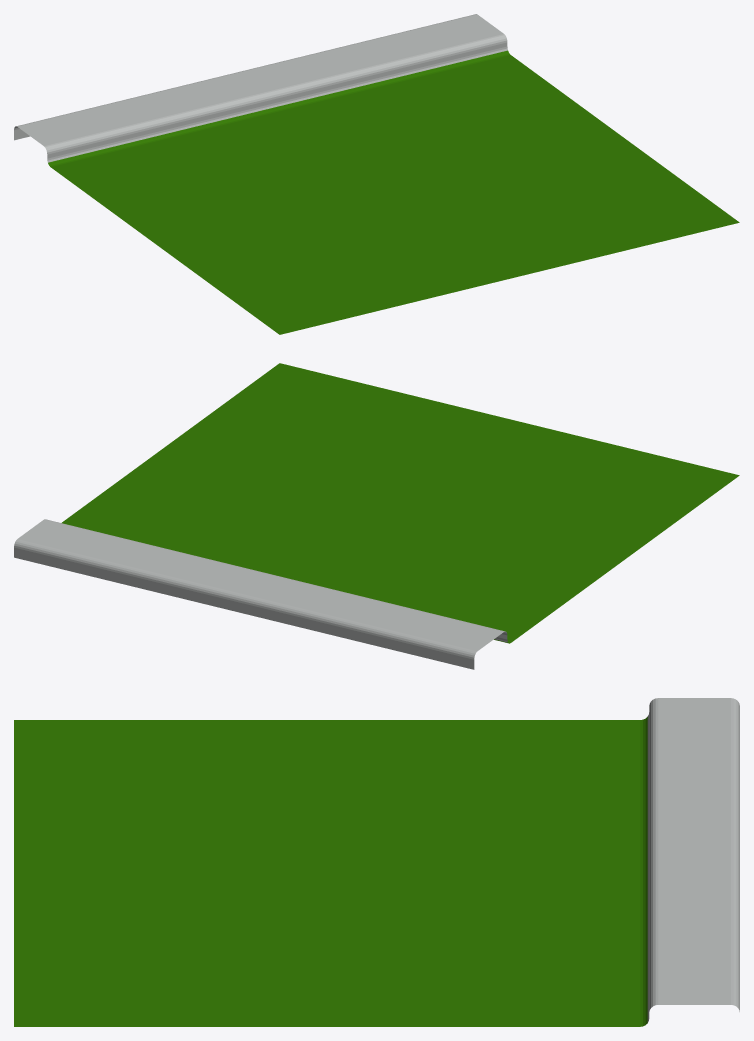
Rendered from Solo_board_grass.fbx.
3 renders of one model, top to bottom at view 1: azimuth 30°, elevation 25°; view 2: azimuth 150°, elevation 25°; view 3: azimuth 270°, elevation 25°, orthographic. The views are drawn at different scales.
Visible parts, largest first — view 1: Plan.009; view 2: Plan.009; view 3: Plan.009.
Boxes of the visible parts, x1,y1,x2,y2 form: Plan.009: (14, 14, 739, 334); Plan.009: (14, 363, 739, 669); Plan.009: (14, 698, 739, 1026).
Bounding box in the file's own units: 800 × 26.78 × 800.
